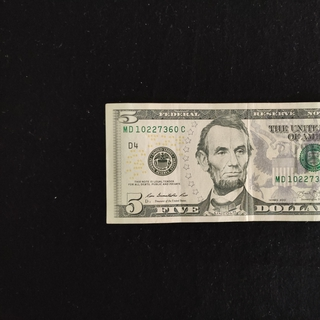5USDFront: (104, 101, 320, 226)
